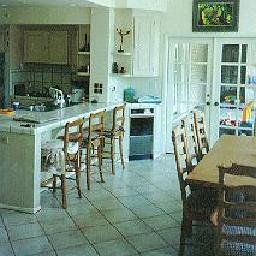Puerta: (167, 37, 253, 130)
